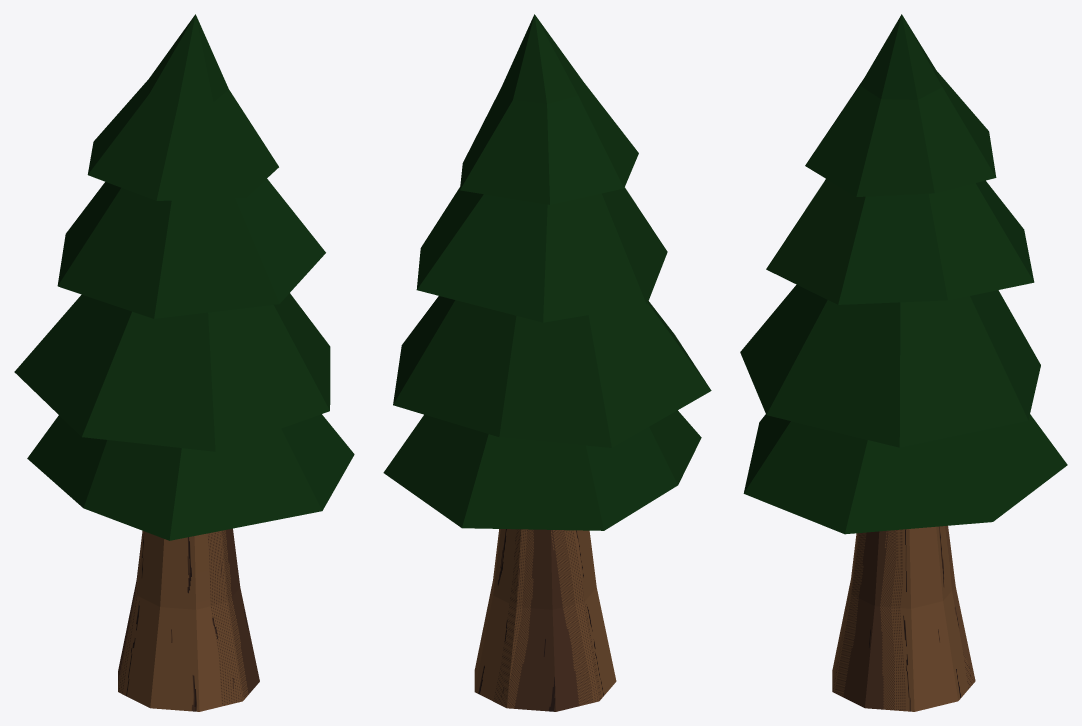
File: Pino.fbx
3 renders of one model, left to right at view 1: azimuth 30°, elevation 25°; view 2: azimuth 150°, elevation 25°; view 3: azimuth 270°, elevation 25°, orthographic.
Parts seen in each view (by area): view 1: Pino; view 2: Pino; view 3: Pino.
Part boxes in pixels (box(x1,y1,x2,y2)): Pino: box(14, 14, 354, 711); Pino: box(383, 14, 711, 711); Pino: box(740, 14, 1067, 711).
Size of the model in its own units: 1190 by 1199 by 2710.
Materials: 2 (1 with a texture image).
